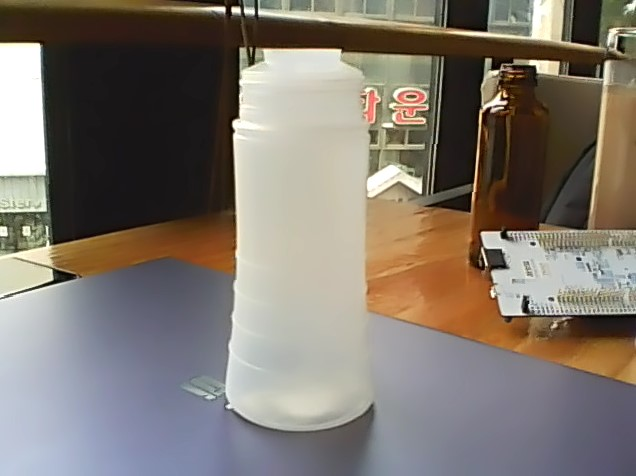Plastic: (222, 41, 382, 435)
